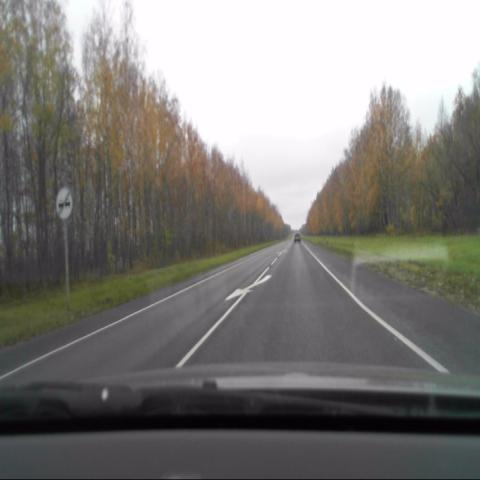3_21: (56, 188, 73, 222)
